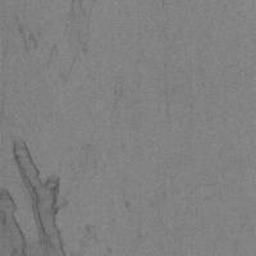Water spot: (0, 137, 70, 256), (63, 0, 93, 56)
